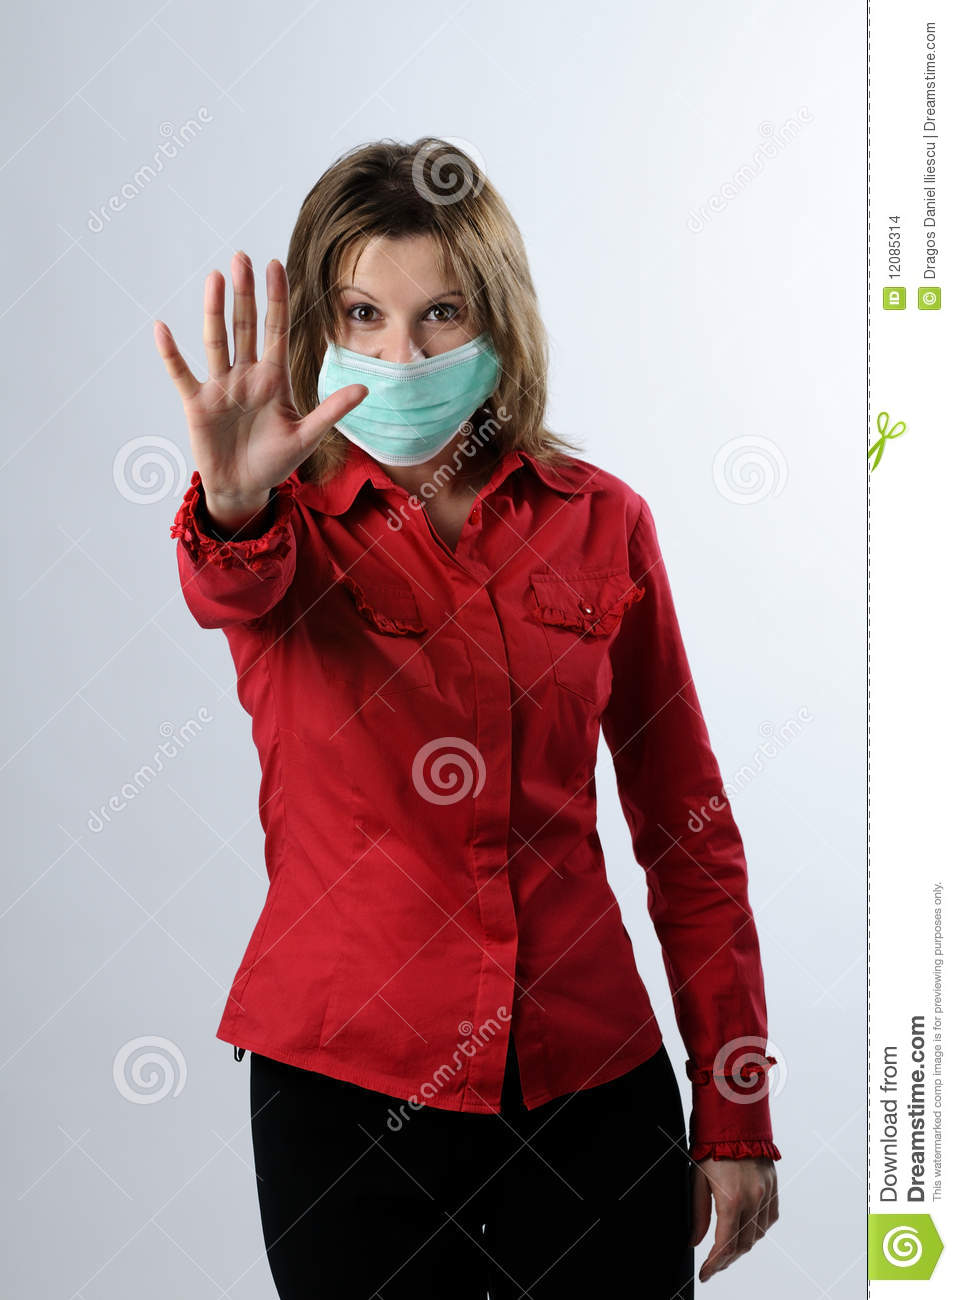mask: (315, 335, 509, 469)
